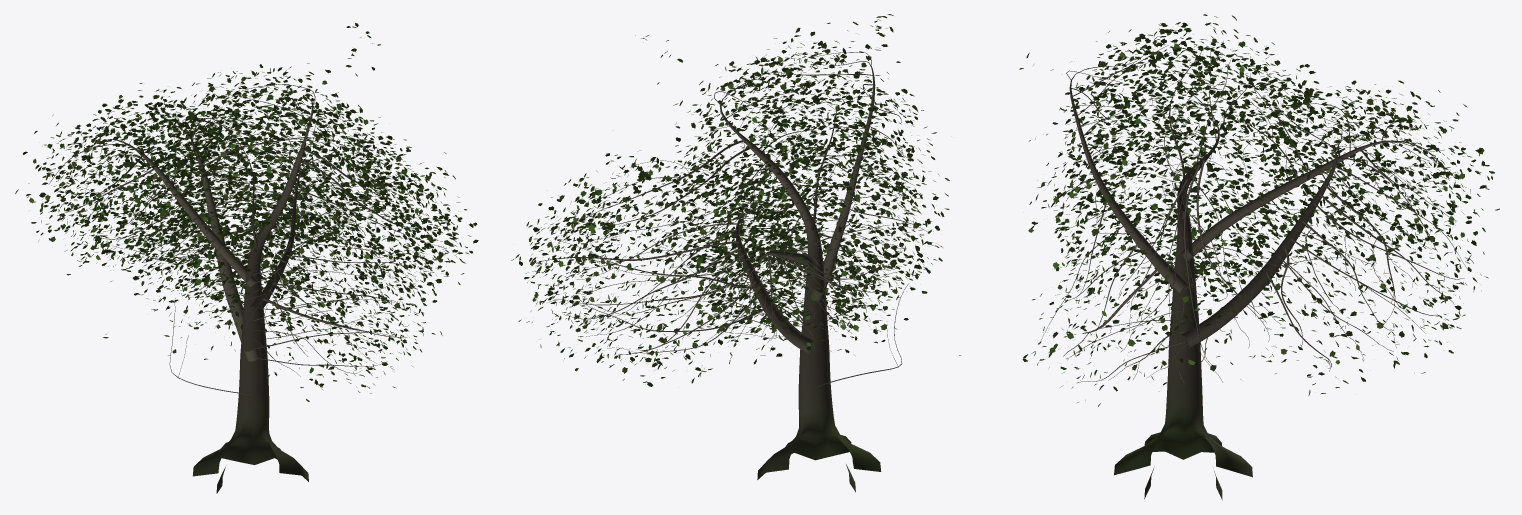
Rendered from SM_Tree_sycamore_4.glb.
3 renders of one model, left to right at view 1: azimuth 30°, elevation 25°; view 2: azimuth 150°, elevation 25°; view 3: azimuth 270°, elevation 25°, orthographic. The views are drawn at different scales.
Visible parts, largest first — view 1: SM_Tree_sycamore_4; view 2: SM_Tree_sycamore_4; view 3: SM_Tree_sycamore_4.
Part boxes in pixels (left/top/right/bottom): SM_Tree_sycamore_4: left=15, top=23, right=478, bottom=493; SM_Tree_sycamore_4: left=511, top=14, right=960, bottom=492; SM_Tree_sycamore_4: left=1019, top=14, right=1499, bottom=500.
Bounding box in the file's own units: 21.17 × 21.16 × 20.63.
